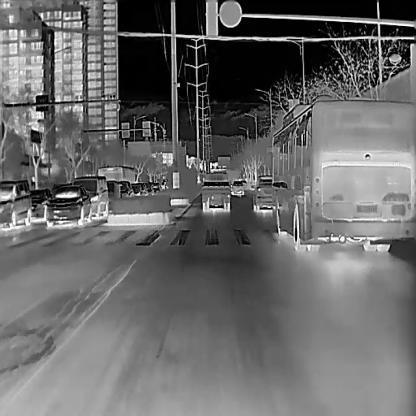car: (264, 94, 416, 251), (45, 185, 91, 228), (73, 176, 109, 220), (0, 180, 31, 229), (201, 171, 229, 210), (250, 174, 272, 213), (29, 187, 52, 221), (96, 164, 133, 181), (105, 179, 120, 200), (118, 181, 134, 197), (231, 180, 243, 196), (144, 181, 154, 195), (137, 181, 146, 196), (131, 181, 139, 194), (153, 181, 161, 194)
